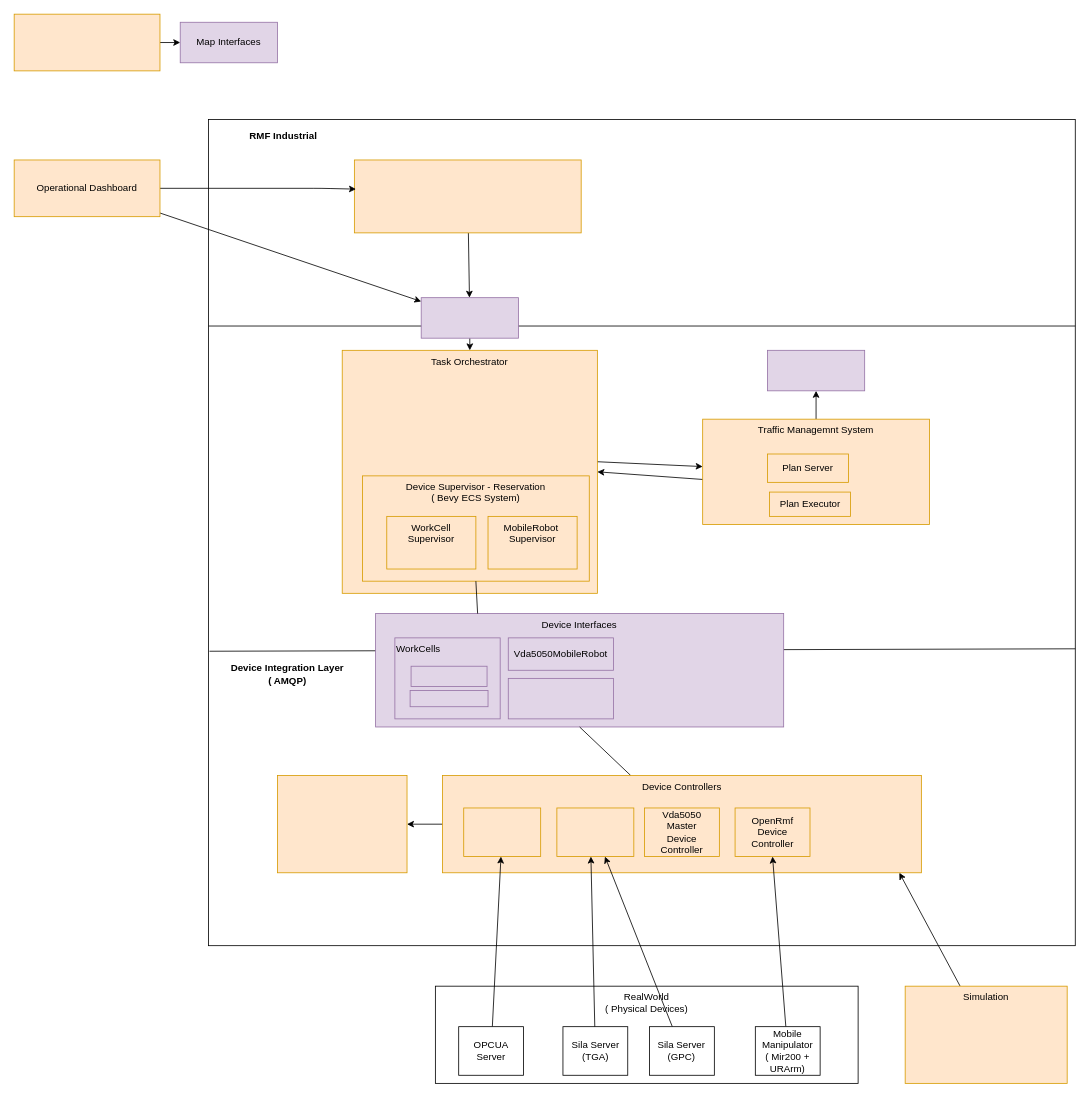
This 1090x1098 diagram has some shape labels left out. Here are the shapes that lost their labels. From the top down, the centre of each, then its label:
(x=86, y=42): Map Editor
(x=467, y=196): Task Scheduler
(x=469, y=317): Task Management Interfaces
(x=816, y=370): Traffic Managment Interfaces
(x=448, y=675): CNC Machines
(x=448, y=698): RobotArms
(x=560, y=698): MobileRobot
(x=342, y=824): Device Manager
(x=502, y=832): OPCUA DeviceController
(x=595, y=832): Sila DeviceController (SilaClient)
